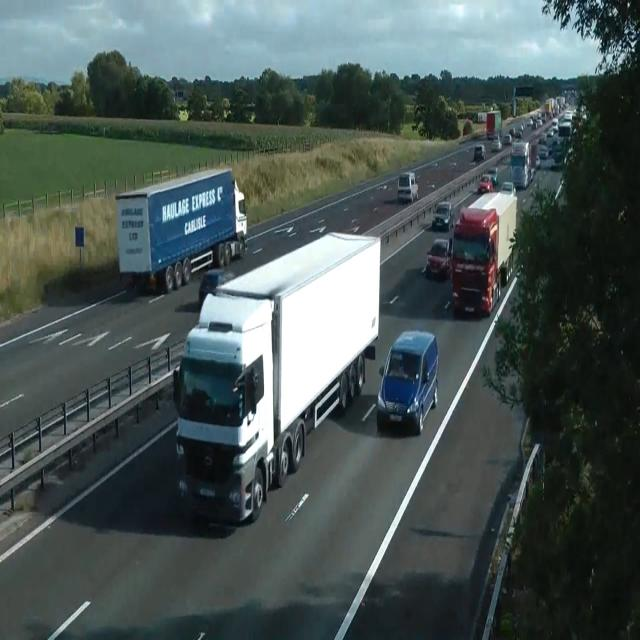bus: (376, 329, 438, 435), (198, 268, 235, 310), (433, 201, 453, 231), (554, 178, 568, 212), (478, 174, 494, 193), (500, 182, 516, 196), (474, 143, 486, 161), (488, 167, 498, 184), (509, 126, 522, 139), (538, 144, 548, 158), (491, 138, 501, 151), (502, 133, 512, 145), (487, 129, 496, 139), (536, 155, 540, 168)
jeep: (426, 237, 452, 279), (396, 170, 418, 202)
minibus: (173, 230, 381, 524), (115, 166, 248, 294), (450, 188, 518, 318), (509, 140, 539, 188), (486, 110, 501, 139)
